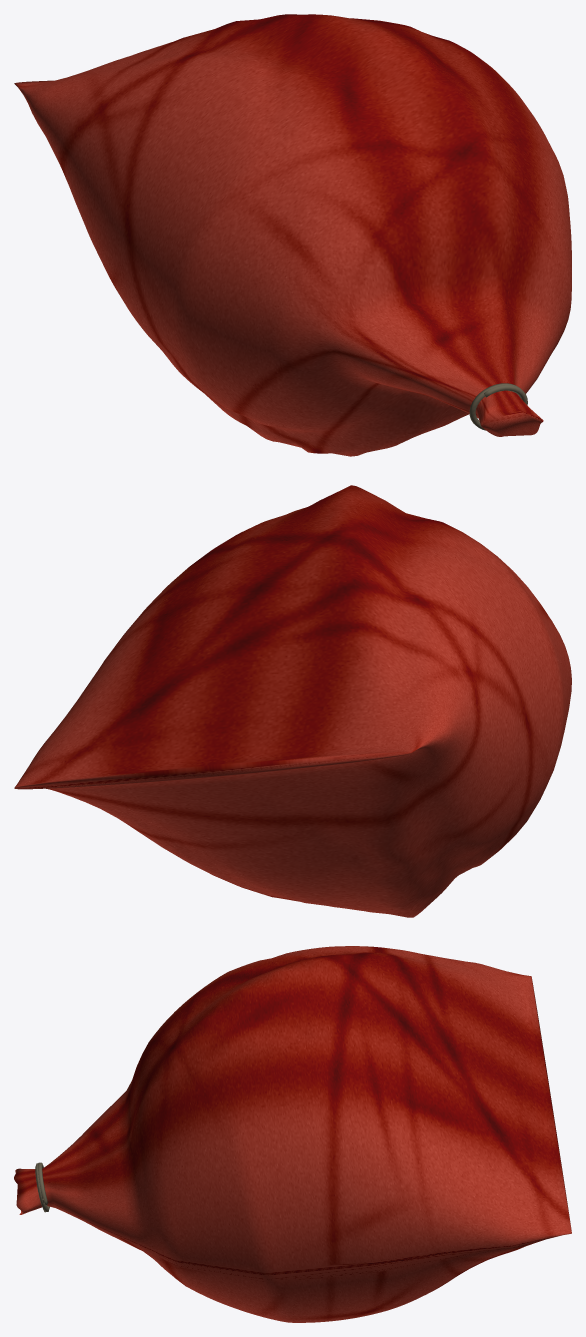
The model's file is peach_00_009.glb.
The picture shows the model from 3 angles, top to bottom: view 1: azimuth 30°, elevation 25°; view 2: azimuth 150°, elevation 25°; view 3: azimuth 270°, elevation 25°; orthographic projection. The views are drawn at different scales.
Parts seen in each view (by area): view 1: export_Tree00/shoot1_8_1/bag, export_Tree00/shoot1_8_1/bag/tie; view 2: export_Tree00/shoot1_8_1/bag; view 3: export_Tree00/shoot1_8_1/bag.
Boxes of the visible parts, bbox=[...] form: export_Tree00/shoot1_8_1/bag: bbox=[14, 14, 571, 456]; export_Tree00/shoot1_8_1/bag/tie: bbox=[469, 383, 527, 430]; export_Tree00/shoot1_8_1/bag: bbox=[14, 485, 571, 917]; export_Tree00/shoot1_8_1/bag: bbox=[14, 946, 571, 1322].
Size of the model in its own units: 0.0939 by 0.0872 by 0.1293.
4 materials, 1 textured.
